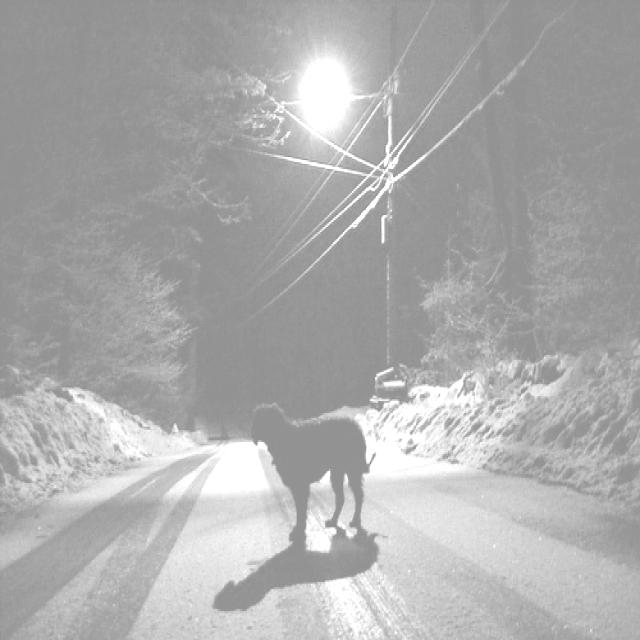Dog: (238, 415, 418, 574)
